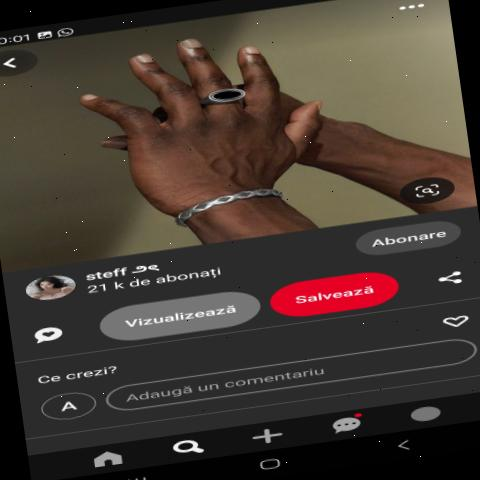hands: (54, 12, 344, 222)
